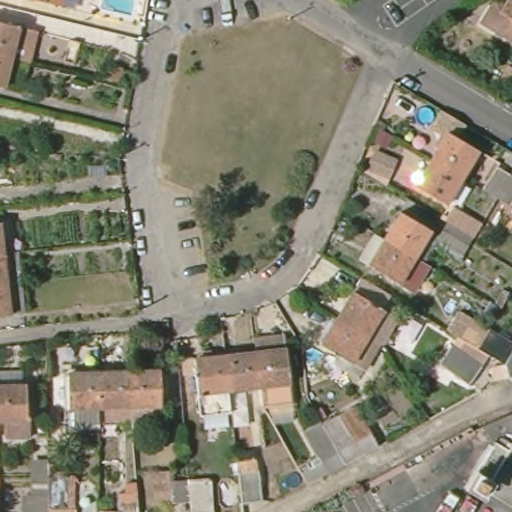pool: (99, 1, 143, 16), (308, 340, 330, 368), (413, 103, 438, 127)
